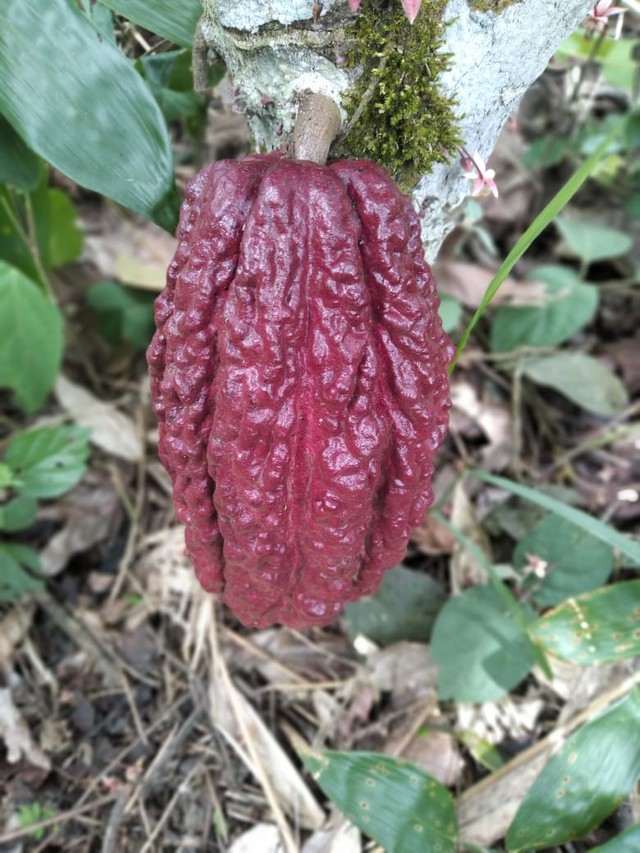Health: (137, 139, 461, 639)
